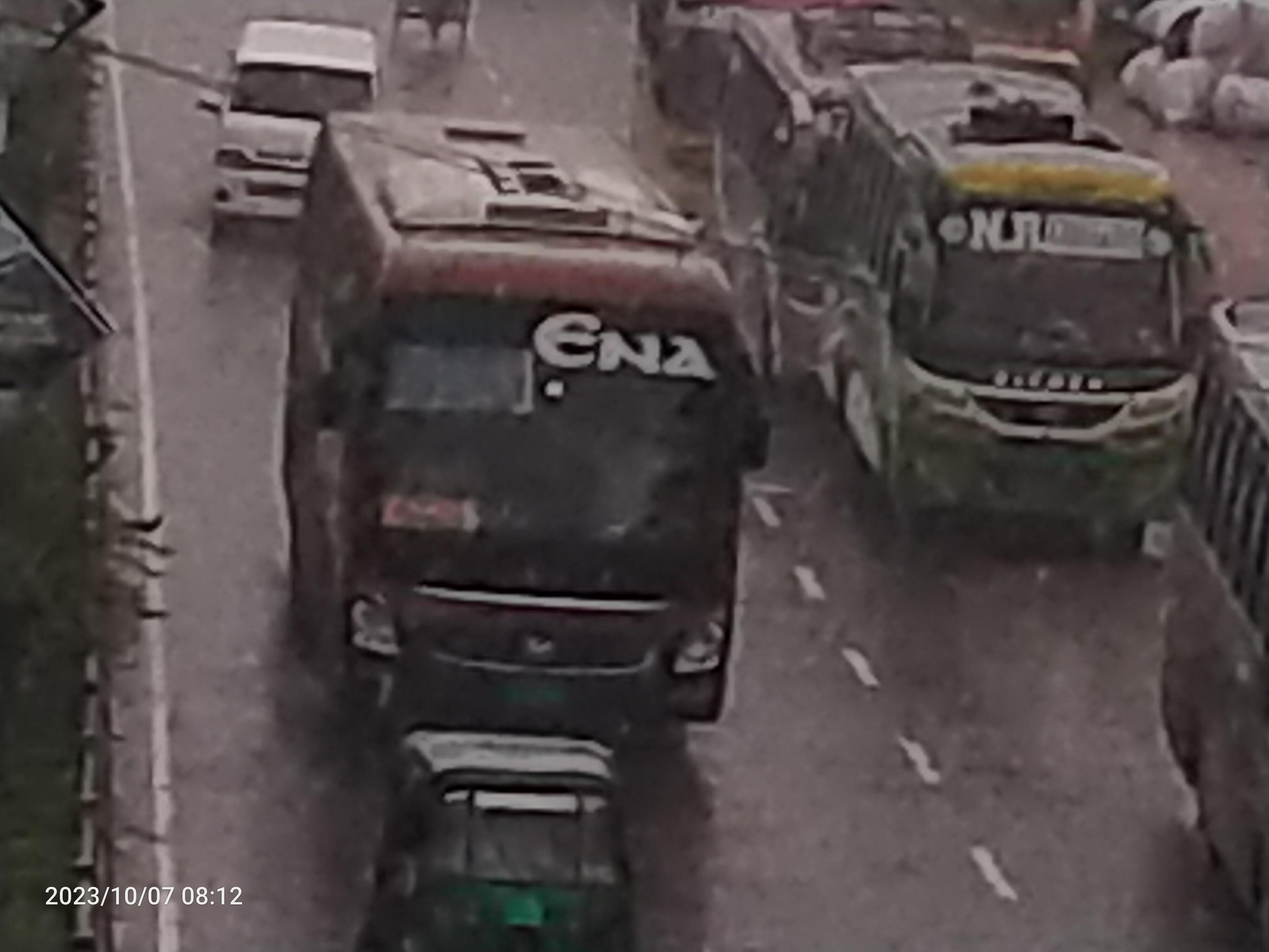Bus: (258, 84, 804, 767), (751, 48, 1200, 580), (1130, 273, 1269, 952), (701, 13, 838, 382)
Car: (174, 0, 397, 235), (367, 0, 496, 65)
